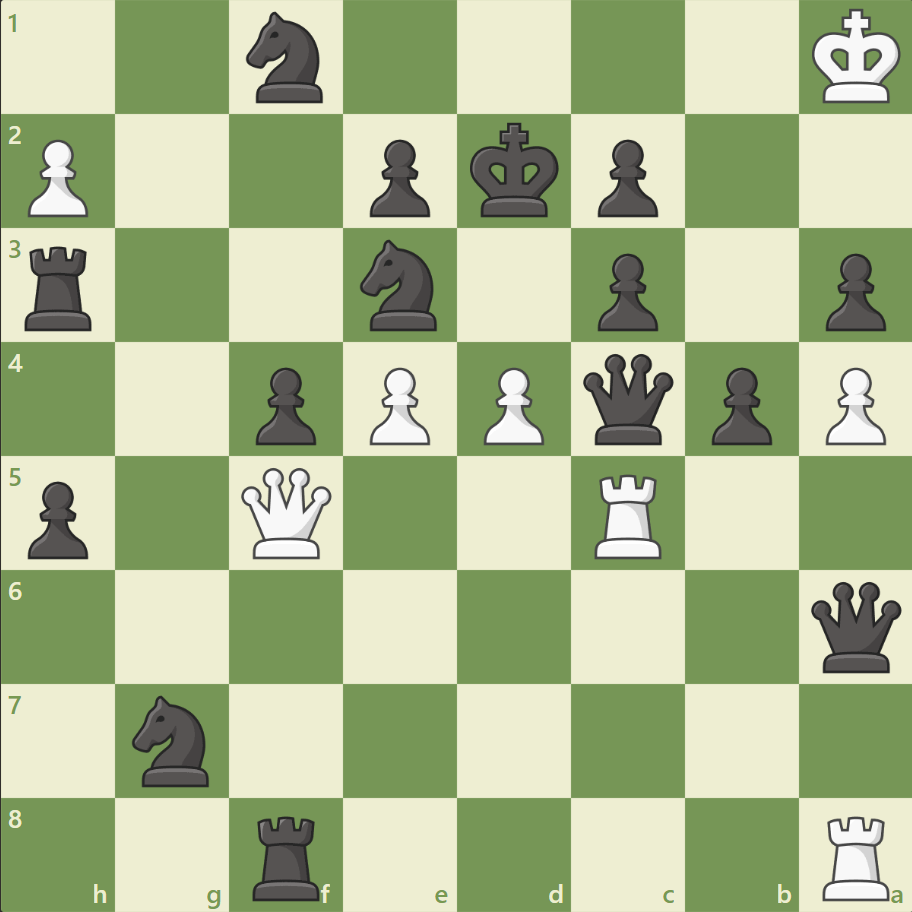K: (806, 4, 906, 112)
P: (474, 359, 549, 450), (20, 132, 95, 223), (815, 359, 889, 450), (361, 359, 435, 450)
Q: (237, 463, 336, 562)
R: (814, 806, 897, 904), (587, 466, 670, 563)
k: (465, 117, 565, 225)
n: (124, 688, 222, 791), (351, 234, 449, 337), (238, 7, 335, 110)
p: (20, 473, 95, 564), (701, 359, 776, 450), (247, 359, 322, 450), (815, 246, 889, 337), (588, 246, 662, 337), (588, 132, 662, 223), (361, 132, 435, 223)
q: (805, 576, 904, 676), (578, 349, 677, 449)
r: (246, 806, 329, 904), (19, 239, 102, 336)
